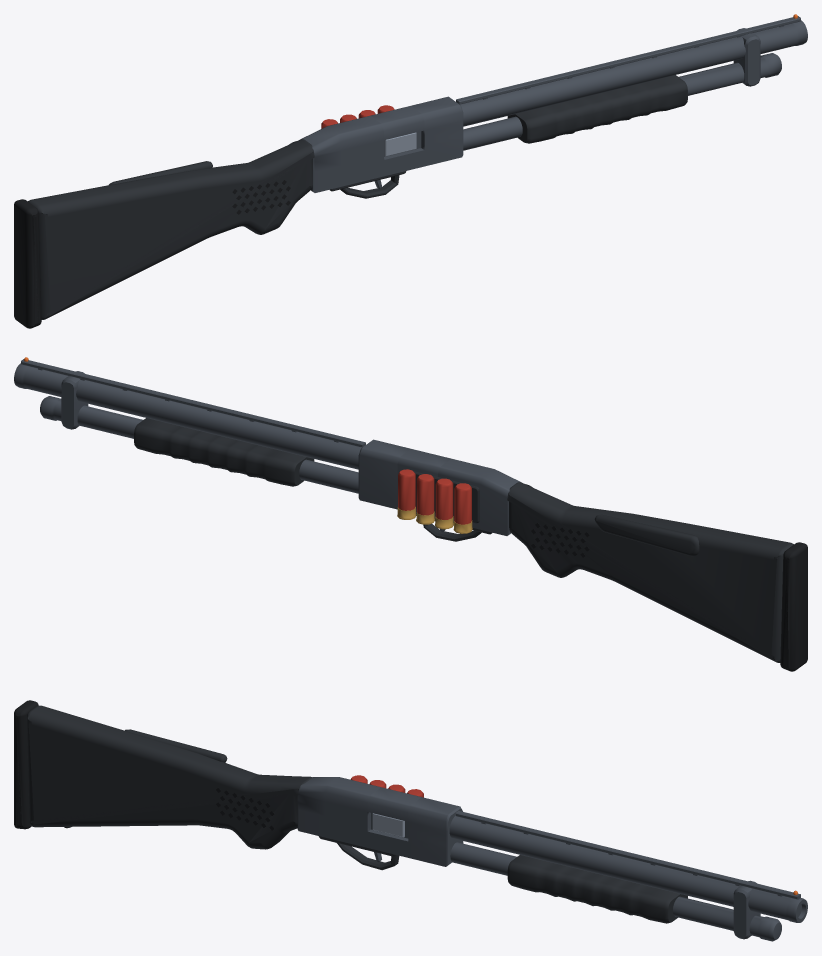
The model's file is Shotgun.fbx.
The picture shows the model from 3 angles, top to bottom: view 1: azimuth 30°, elevation 25°; view 2: azimuth 150°, elevation 25°; view 3: azimuth 330°, elevation 25°; orthographic projection.
Visible parts, largest first — view 1: Shotgun_Stock, Shotgun_Barrel, Shotgun_Receiver, Shotgun_Pump, Shotgun_ButtPad, Shotgun_TriggerGroup, Shotgun_Bolt; view 2: Shotgun_Stock, Shotgun_Barrel, Shotgun_Receiver, Shotgun_Pump, Shotgun_ButtPad, Shotgun_Shells, Shotgun_TriggerGroup, Shotgun_ShellBrass; view 3: Shotgun_Stock, Shotgun_Barrel, Shotgun_Receiver, Shotgun_Pump, Shotgun_ButtPad, Shotgun_TriggerGroup, Shotgun_Bolt, Shotgun_Checkering.
Boxes of the visible parts, x1=… form: Shotgun_Stock: x1=28, y1=139, x2=314, y2=319; Shotgun_Barrel: x1=456, y1=16, x2=807, y2=150; Shotgun_Receiver: x1=301, y1=96, x2=463, y2=192; Shotgun_Pump: x1=507, y1=75, x2=687, y2=143; Shotgun_ButtPad: x1=14, y1=199, x2=41, y2=328; Shotgun_TriggerGroup: x1=329, y1=171, x2=406, y2=198; Shotgun_Bolt: x1=384, y1=132, x2=416, y2=156; Shotgun_Stock: x1=507, y1=482, x2=793, y2=662; Shotgun_Barrel: x1=14, y1=359, x2=365, y2=493; Shotgun_Receiver: x1=358, y1=439, x2=520, y2=535; Shotgun_Pump: x1=134, y1=418, x2=314, y2=486; Shotgun_ButtPad: x1=780, y1=542, x2=807, y2=671; Shotgun_Shells: x1=398, y1=469, x2=471, y2=524; Shotgun_TriggerGroup: x1=402, y1=469, x2=492, y2=541; Shotgun_ShellBrass: x1=397, y1=507, x2=472, y2=533; Shotgun_Stock: x1=26, y1=705, x2=312, y2=849; Shotgun_Barrel: x1=449, y1=810, x2=807, y2=941; Shotgun_Receiver: x1=297, y1=777, x2=463, y2=866; Shotgun_Pump: x1=507, y1=855, x2=687, y2=923; Shotgun_ButtPad: x1=14, y1=700, x2=38, y2=829; Shotgun_TriggerGroup: x1=318, y1=836, x2=399, y2=870; Shotgun_Bolt: x1=372, y1=813, x2=404, y2=837; Shotgun_Checkering: x1=216, y1=788, x2=274, y2=830.
Bounding box in the file's own units: 99.8 × 14.85 × 6.64.
